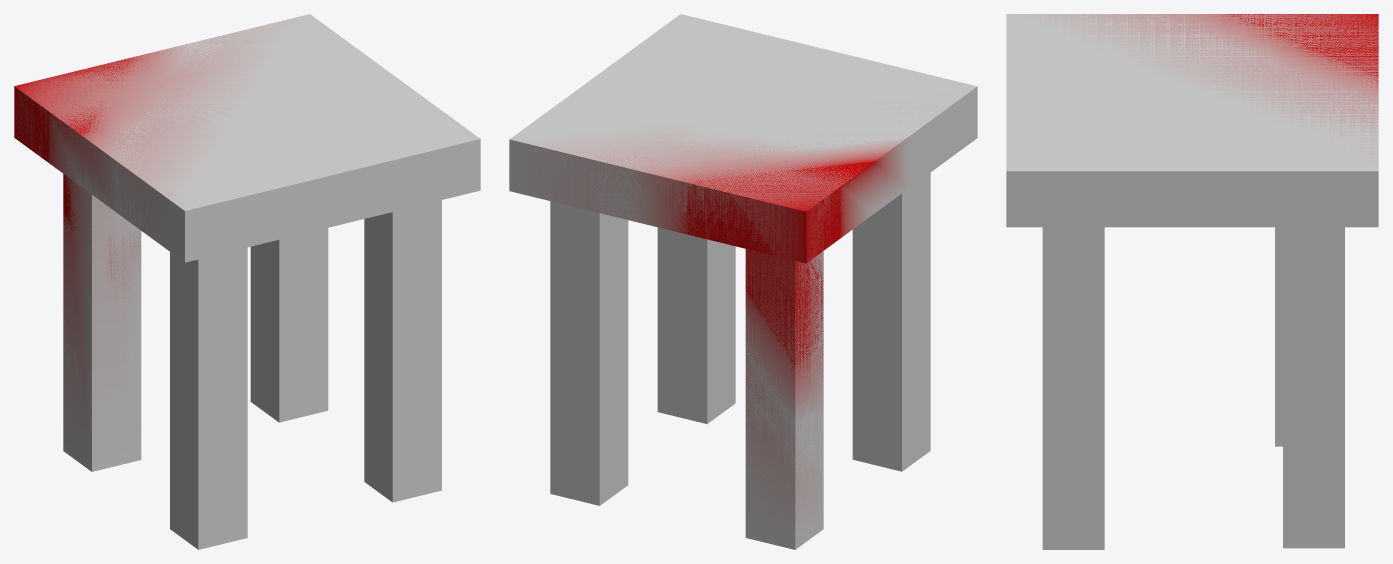
Rendered from FBX_Table_stool.fbx.
3 views of the same model, side by side, from view 1: azimuth 30°, elevation 25°; view 2: azimuth 150°, elevation 25°; view 3: azimuth 270°, elevation 25° (orthographic). The views are drawn at different scales.
Visible parts, largest first — view 1: Cube.001; view 2: Cube.001; view 3: Cube.001.
Part boxes in pixels (left/top/right/bottom): Cube.001: left=14, top=14, right=480, bottom=549; Cube.001: left=509, top=14, right=977, bottom=549; Cube.001: left=1006, top=14, right=1378, bottom=549.
Size of the model in its own units: 60 by 69.48 by 60.
